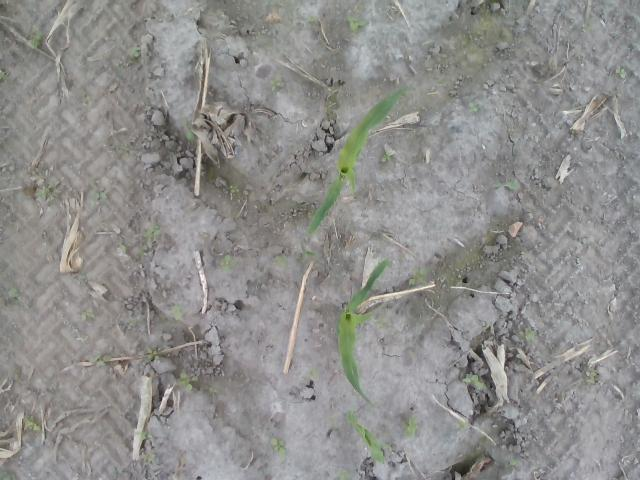Maize: (307, 89, 404, 235), (336, 259, 391, 404), (347, 410, 391, 466)
Weeds: (175, 368, 201, 390), (345, 14, 370, 34), (462, 371, 486, 390), (30, 24, 48, 48), (408, 268, 431, 286), (34, 183, 58, 200), (182, 120, 198, 145), (495, 178, 519, 194), (90, 190, 111, 208), (272, 437, 288, 460), (142, 223, 162, 241), (610, 65, 632, 81), (519, 326, 538, 344), (404, 414, 416, 441), (220, 254, 237, 272), (23, 416, 42, 432), (0, 464, 19, 480), (144, 346, 162, 362), (128, 46, 142, 65), (272, 255, 290, 269), (94, 353, 108, 369), (80, 307, 96, 321), (504, 456, 520, 470), (584, 368, 597, 385), (5, 286, 18, 302), (336, 467, 352, 480), (80, 88, 92, 105), (30, 167, 50, 177), (140, 451, 156, 463), (136, 430, 153, 441), (117, 143, 129, 158), (173, 303, 183, 320), (308, 367, 320, 381), (270, 78, 282, 92), (111, 465, 124, 477), (327, 96, 338, 110), (382, 147, 392, 161), (118, 242, 128, 255), (227, 184, 240, 194), (468, 102, 480, 112), (207, 384, 217, 396), (454, 420, 464, 432), (334, 416, 340, 432), (306, 15, 316, 24), (376, 320, 386, 329), (304, 250, 318, 256), (0, 71, 8, 81)
